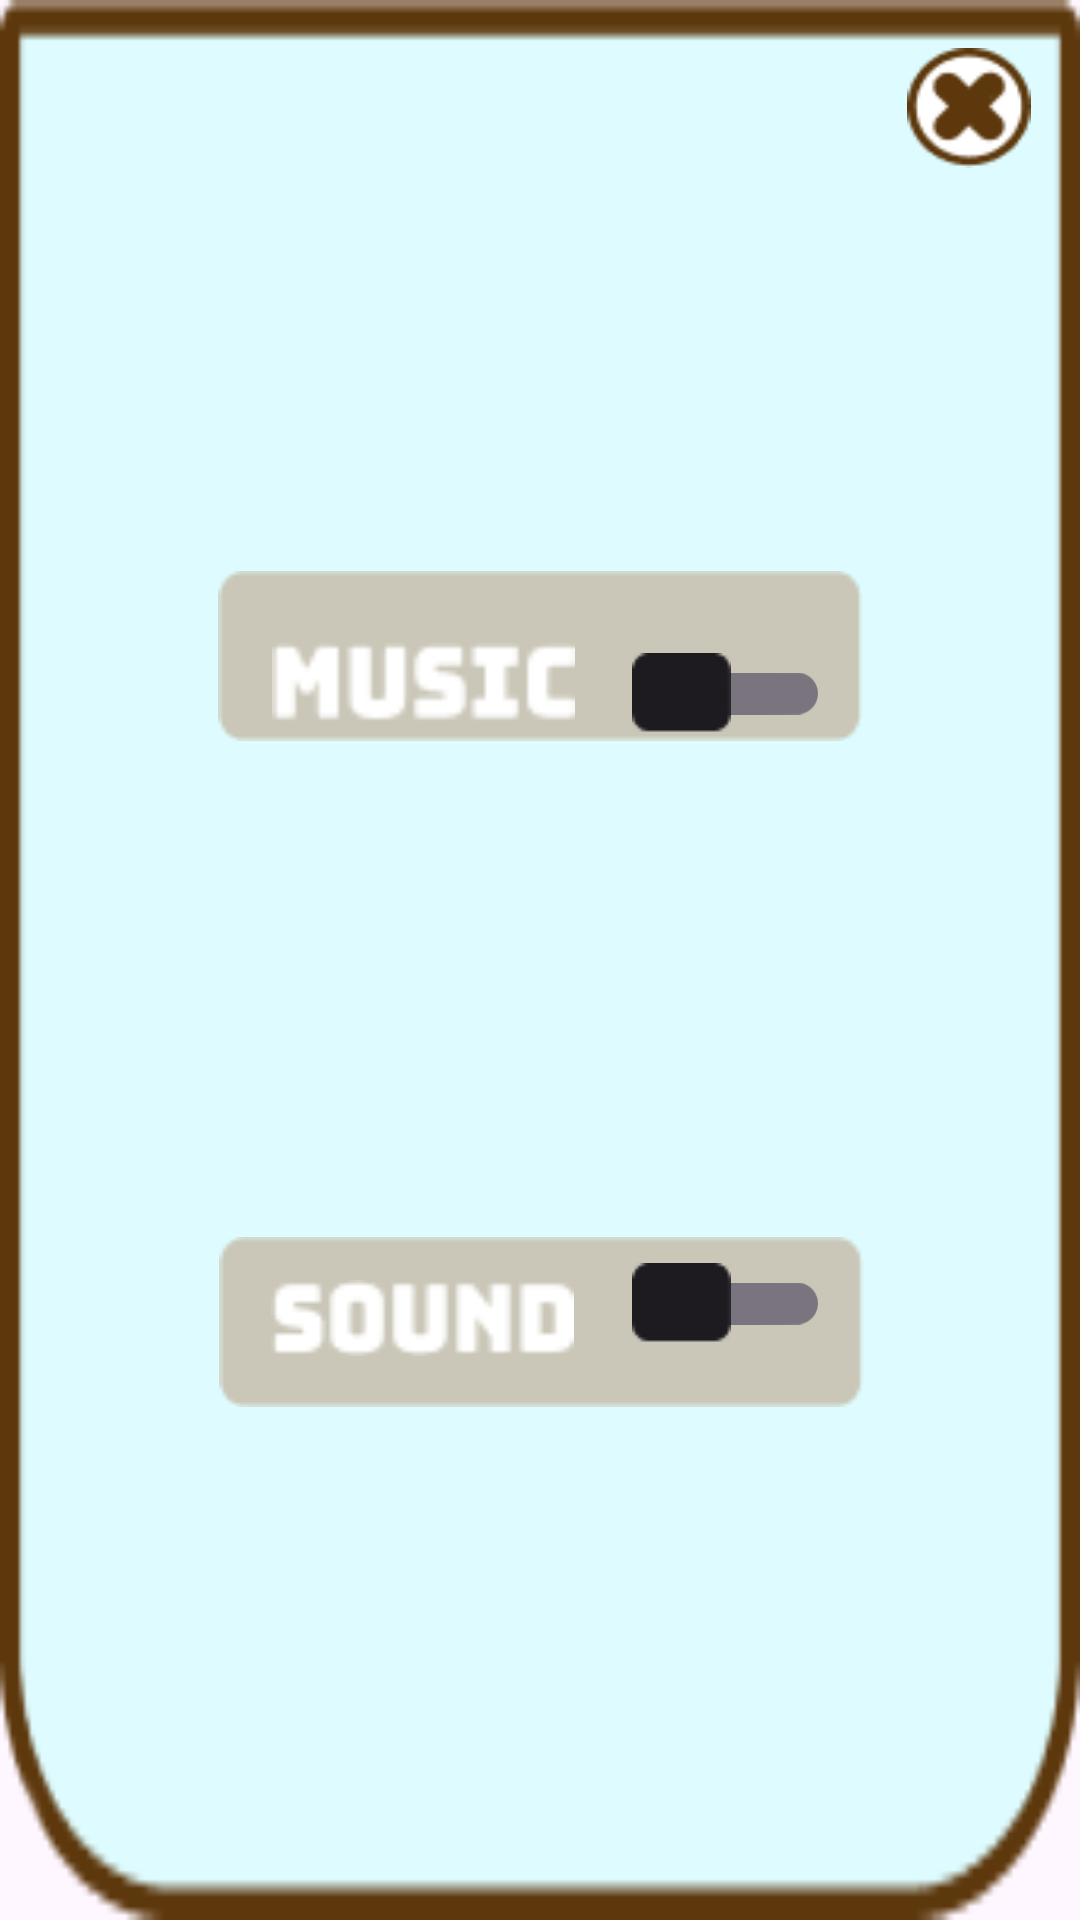

Icons on this 1080 x 1920 Android screen, each with the point to tap as (x,y):
close: (969,108)
